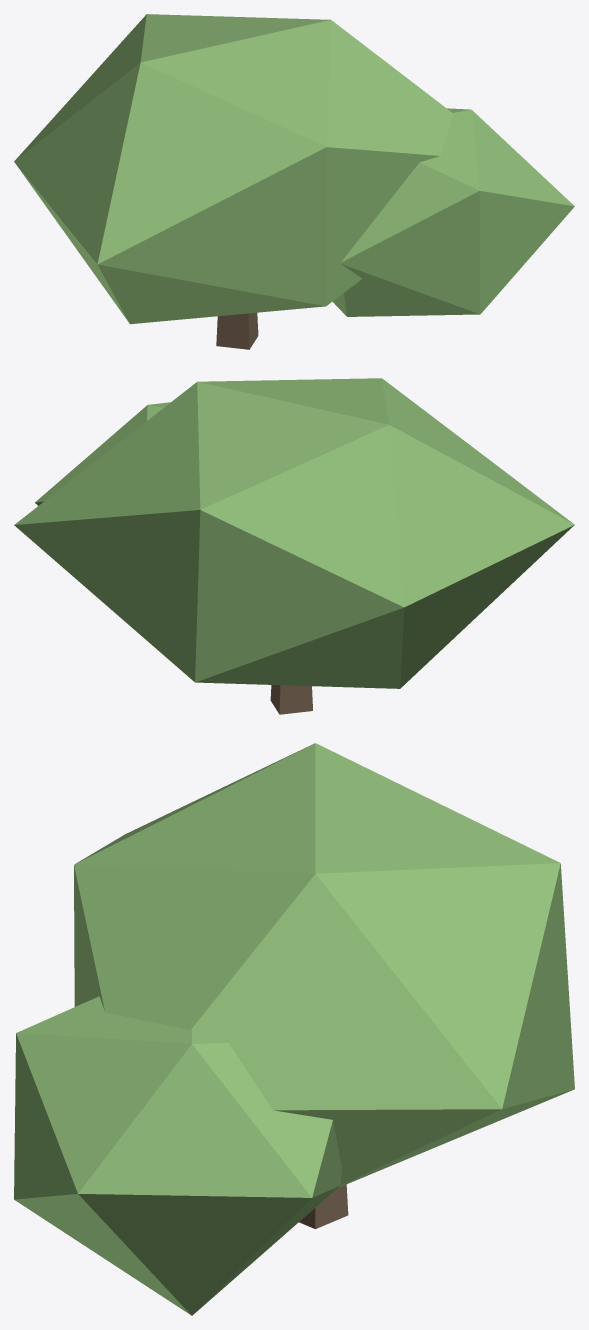
The model's file is shrub.glb.
The picture shows the model from 3 angles, top to bottom: view 1: azimuth 30°, elevation 25°; view 2: azimuth 150°, elevation 25°; view 3: azimuth 270°, elevation 25°; orthographic projection. The views are drawn at different scales.
Size of the model in its own units: 1.77 by 1.1 by 1.36.
